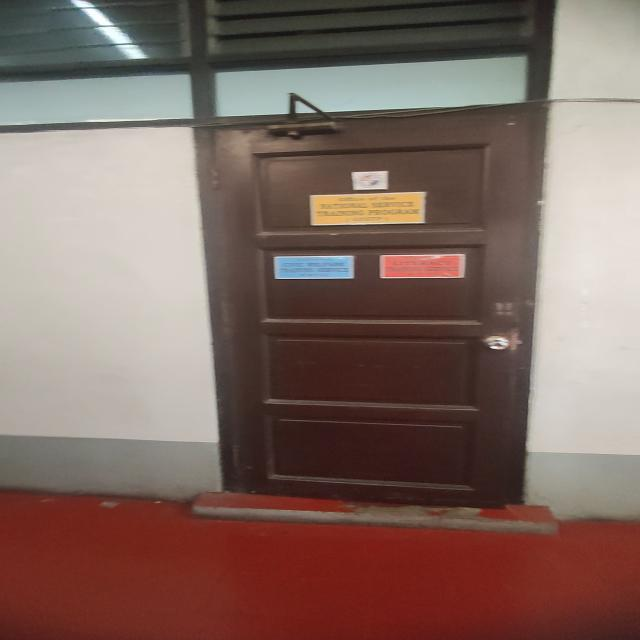door: (201, 103, 529, 510)
